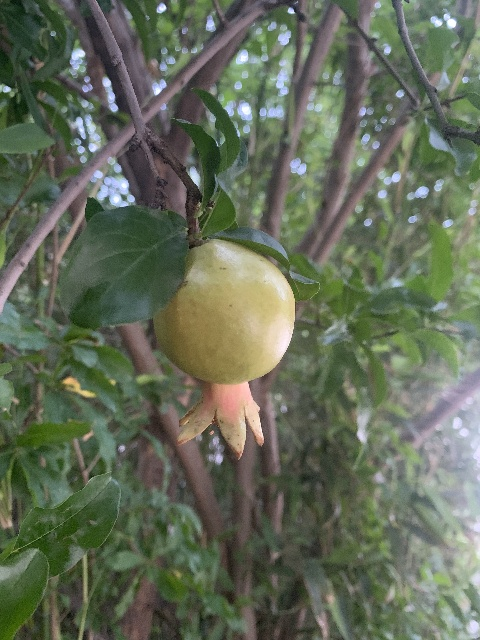mid-growth: (154, 238, 296, 461)
